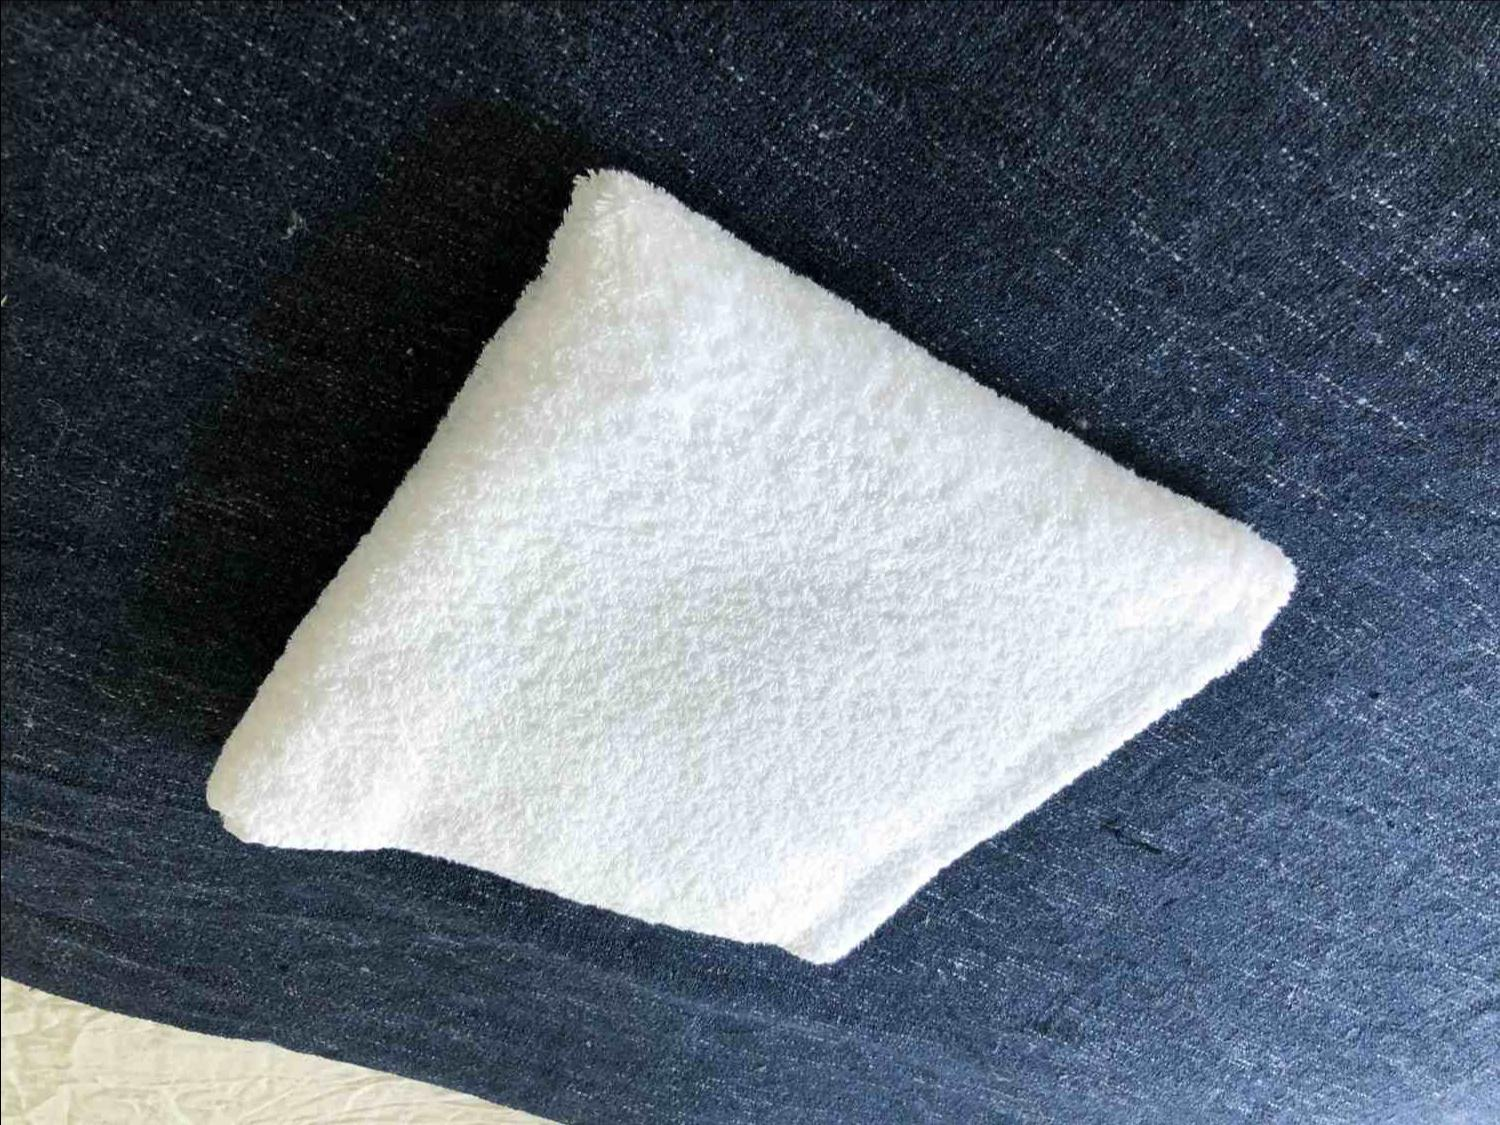towel: (117, 125, 1328, 1067)
